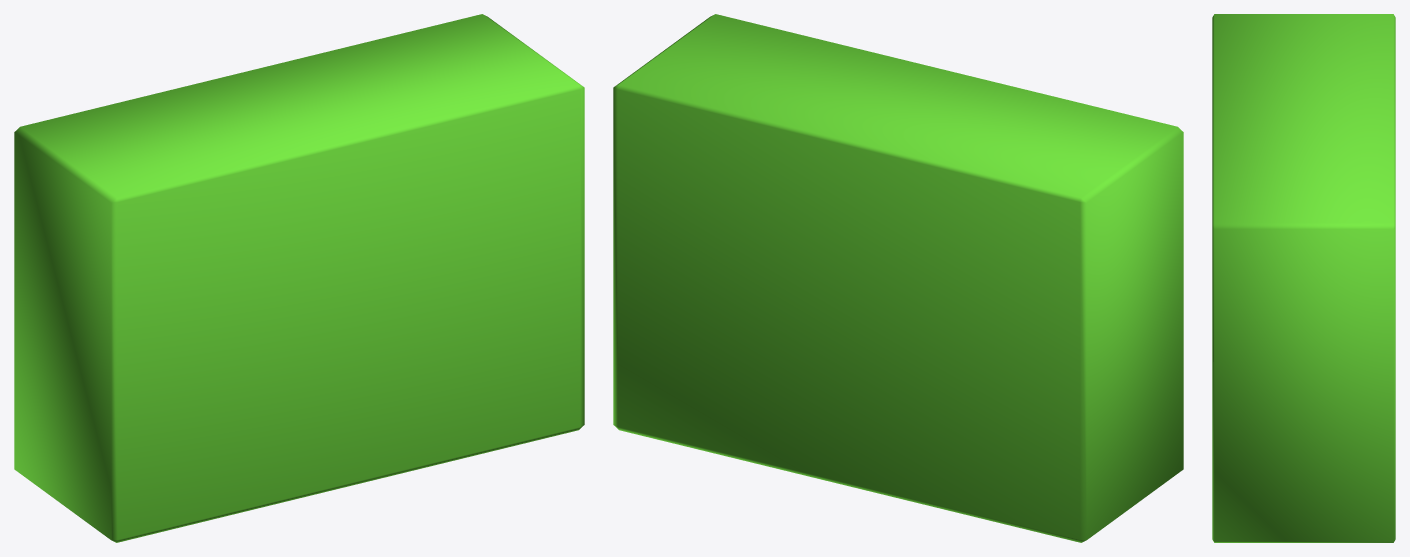
The model's file is SaponettaOliva.fbx.
3 views of the same model, side by side, from view 1: azimuth 30°, elevation 25°; view 2: azimuth 150°, elevation 25°; view 3: azimuth 270°, elevation 25° (orthographic). The views are drawn at different scales.
Visible parts, largest first — view 1: Saponetta.002; view 2: Saponetta.002; view 3: Saponetta.002.
Boxes of the visible parts, bbox=[...] form: Saponetta.002: bbox=[14, 14, 584, 542]; Saponetta.002: bbox=[613, 14, 1183, 542]; Saponetta.002: bbox=[1212, 14, 1395, 542].
Bounding box in the file's own units: 468 × 326 × 169.
